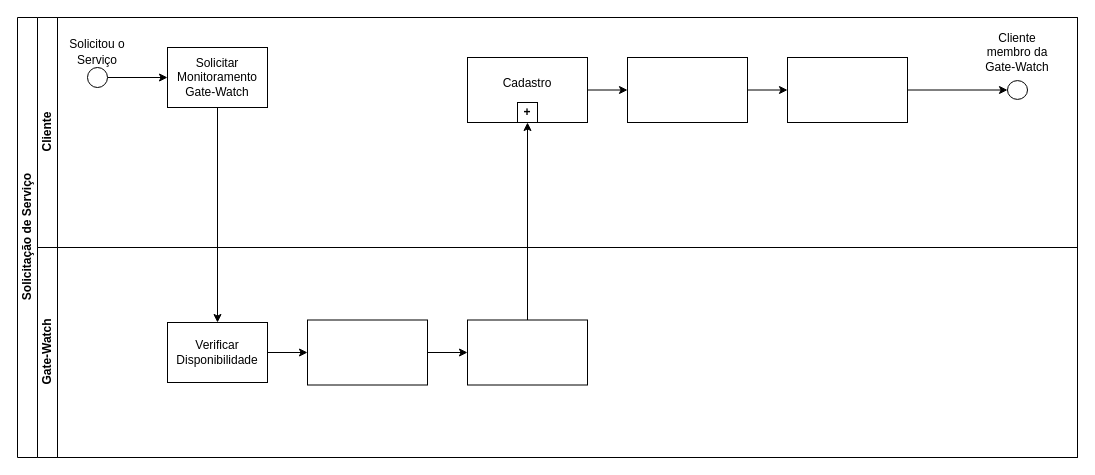
This 1095x475 diagram has some shape labels left out. Each missing label, with the centre of its shape:
Acesso a Plataforma.: the point at 847,89
Gerar Token de Acesso: Analista/Gerente: the point at 527,352
Login: the point at 687,89
Solicitar acesso aos componentes a serem monitorados: the point at 367,352
